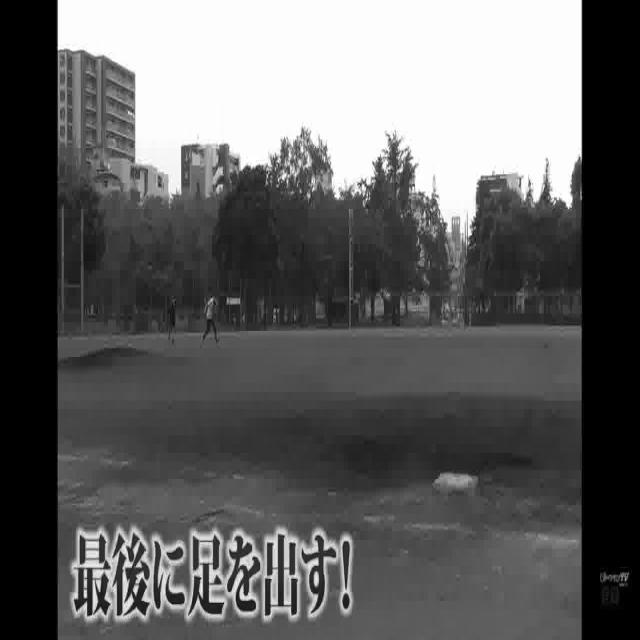base: (434, 471, 480, 494)
